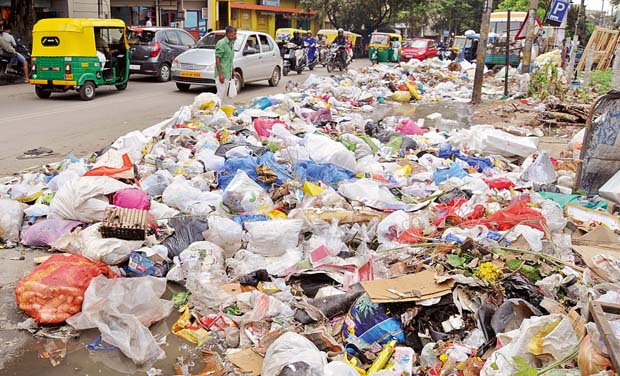garbage: (121, 134, 582, 376), (193, 100, 517, 376), (30, 168, 575, 332), (309, 78, 472, 376), (411, 193, 620, 373)
